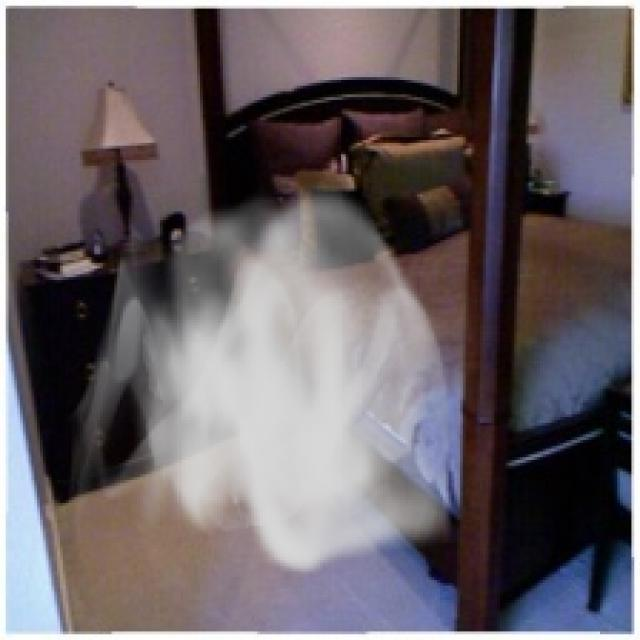Smoke: (66, 174, 463, 577)
